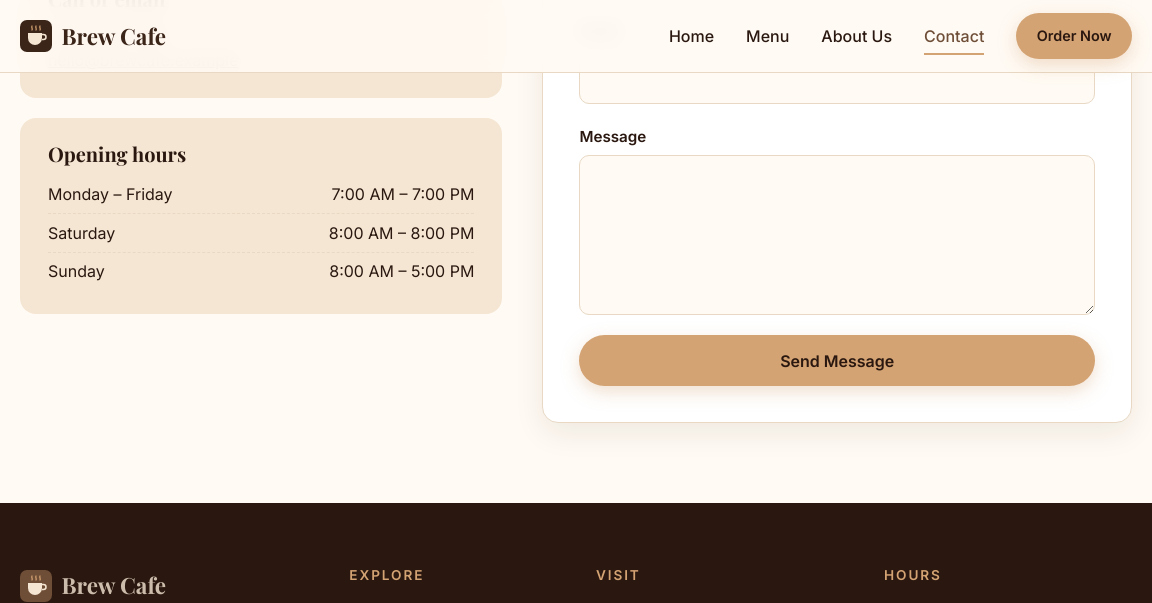
Scenario: Contact page › validates and submits the form
(page scrolled)
Click the button "Send Message". click: (837, 361)
box: x1=579 y1=335 x2=1095 y2=386
(page scrolled)
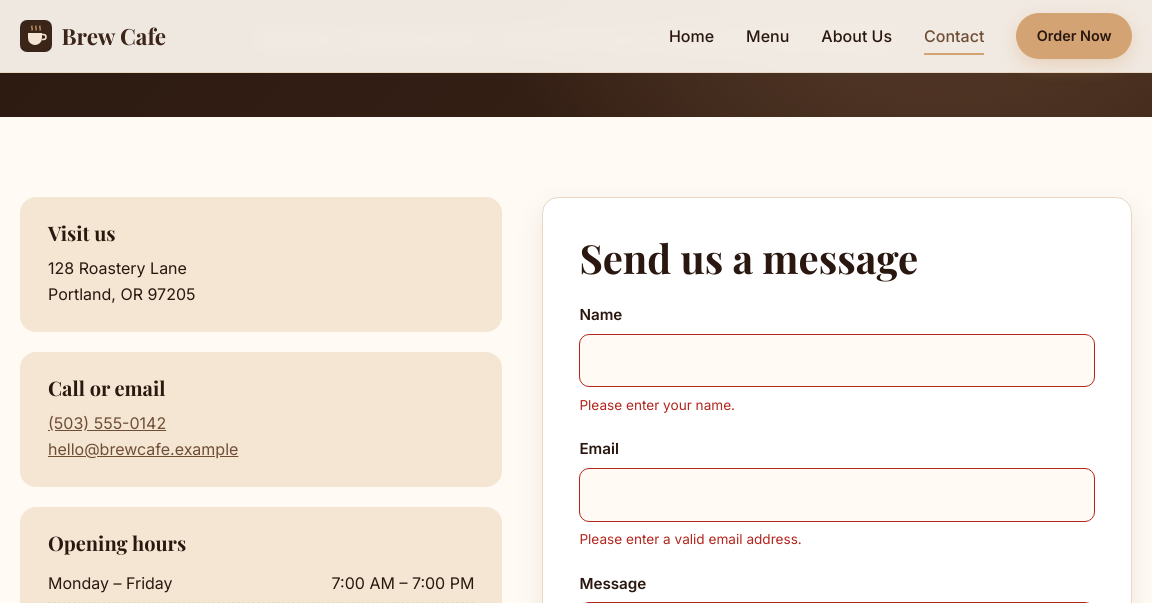
Now the text "Please enter your name." is shown, box x1=579 y1=397 x2=735 y2=413
Now the text "Please enter a valid email address." is shown, box x1=579 y1=531 x2=802 y2=547
Type "Alex" into the field labelled "Name". click: (837, 360)
box: x1=579 y1=334 x2=1095 y2=388
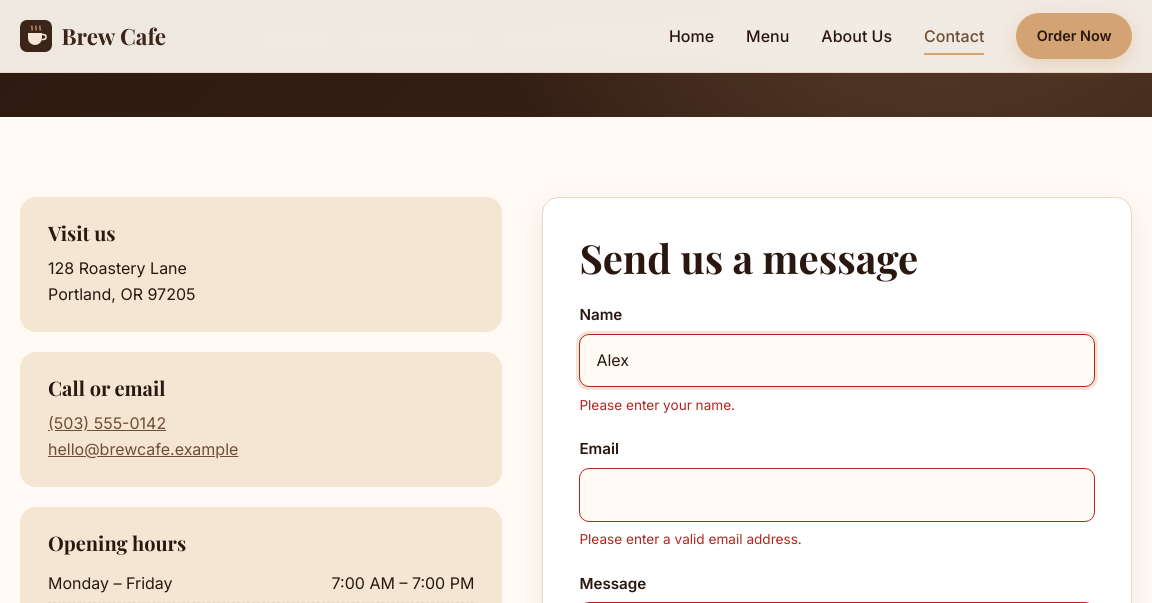
Type "alex@example.com" into the field labelled "Email". click: (837, 495)
box: x1=579 y1=468 x2=1095 y2=522
(page scrolled)
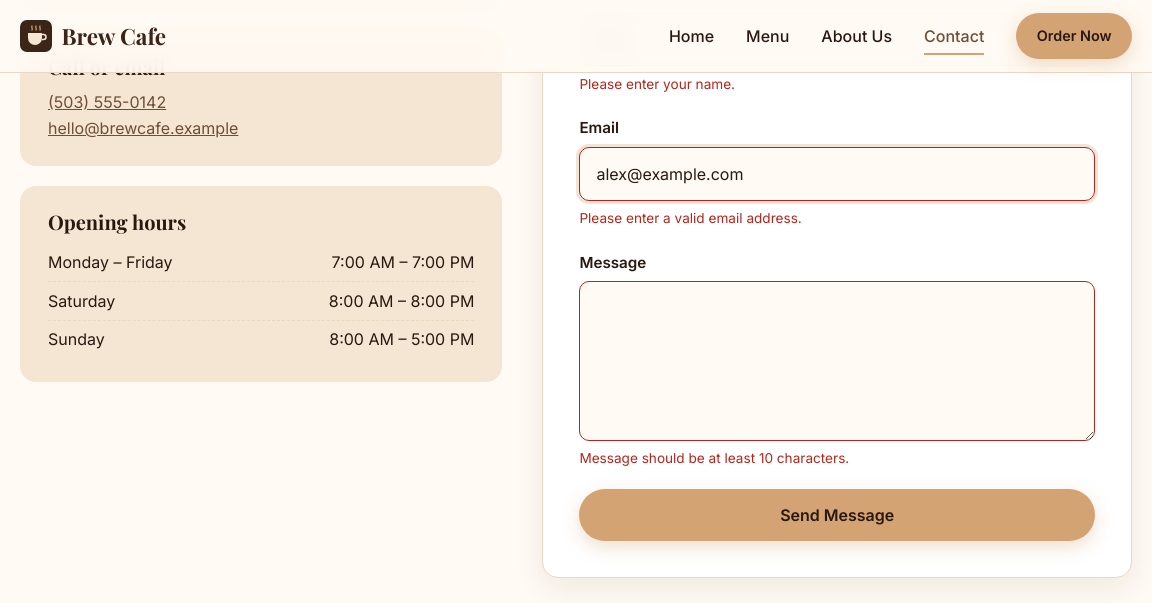
Type "Do you cater office events?" into the text box labelled "Message". click: (837, 361)
box: x1=579 y1=281 x2=1095 y2=440
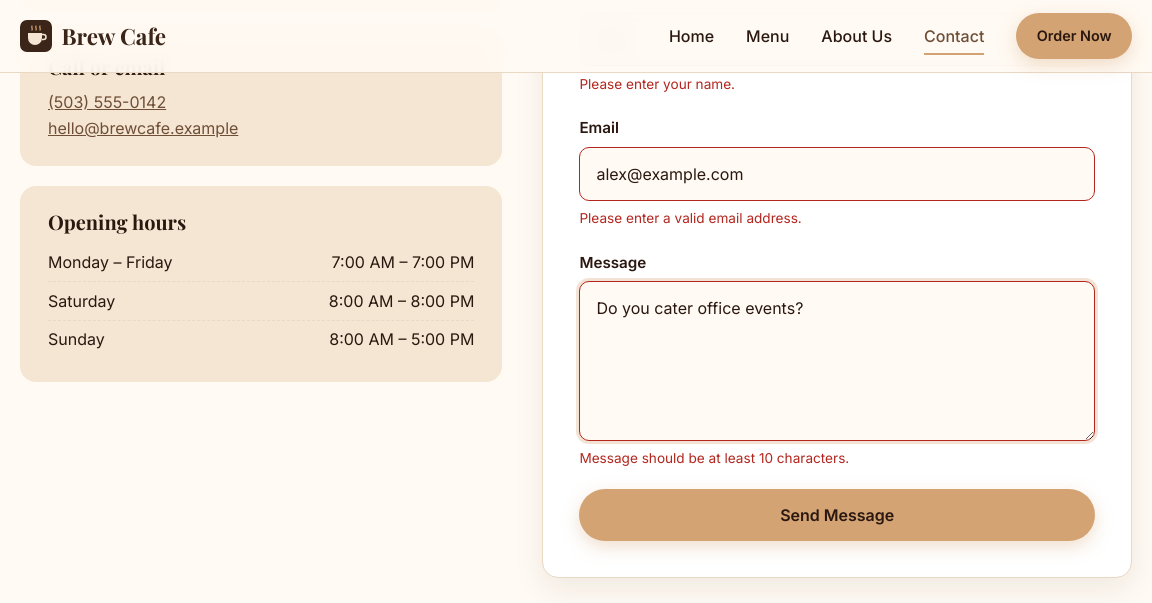
Click the button "Send Message". click: (837, 515)
box: x1=579 y1=489 x2=1095 y2=541
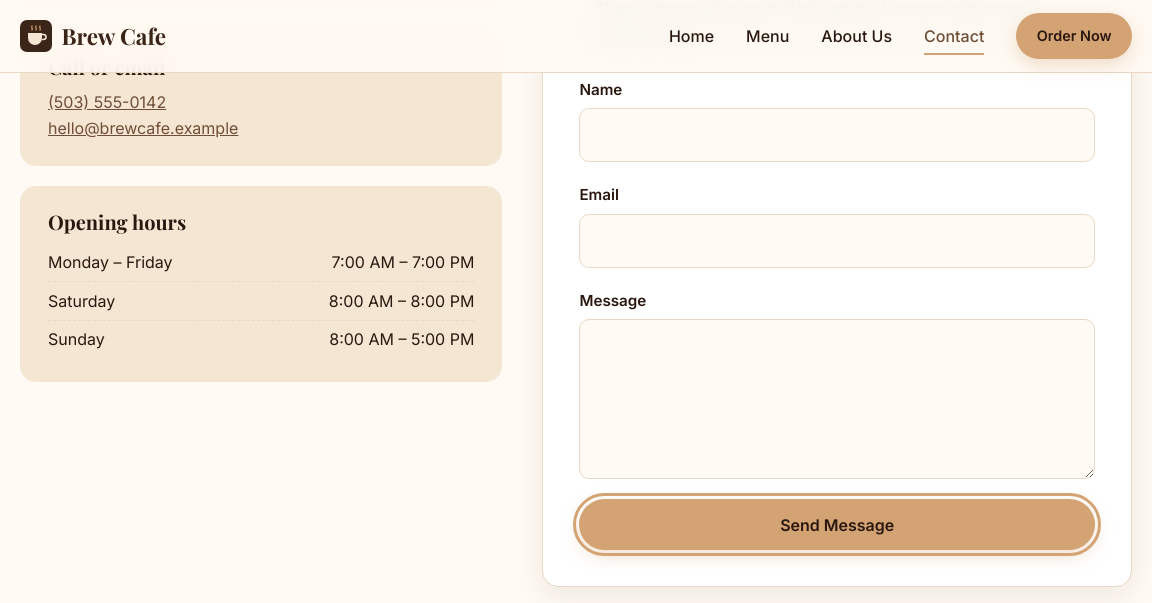
Now the field labelled "Name" is empty, box x1=579 y1=108 x2=1095 y2=162
